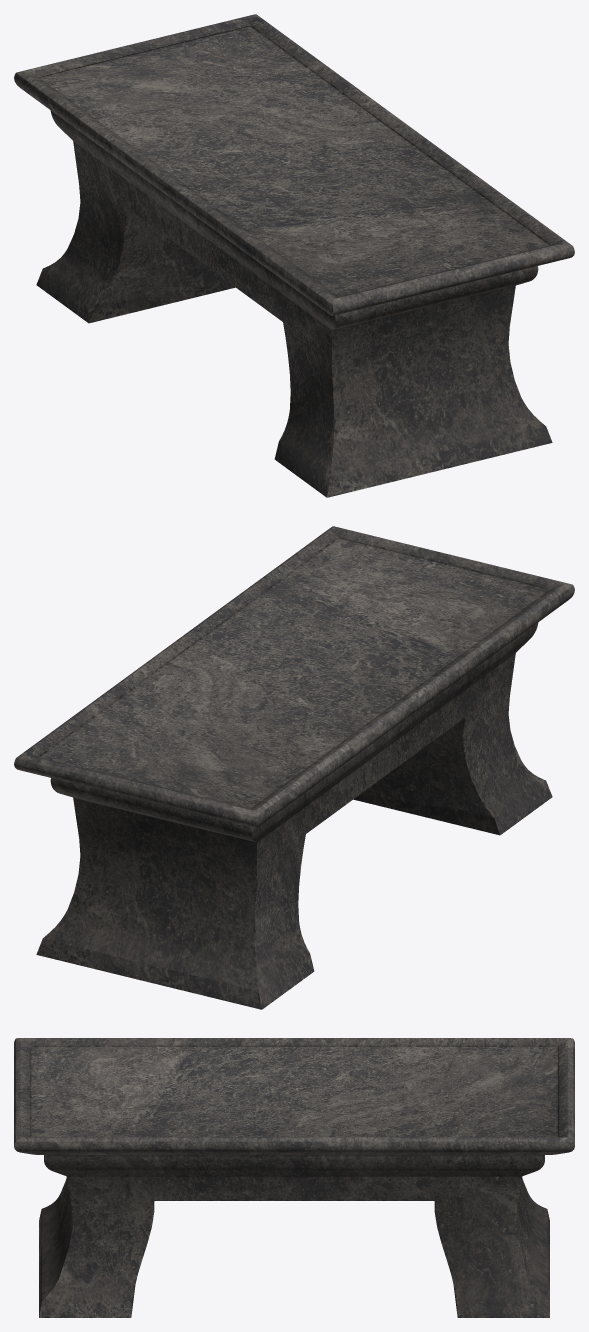
The picture shows the model from 3 angles, top to bottom: view 1: azimuth 30°, elevation 25°; view 2: azimuth 150°, elevation 25°; view 3: azimuth 270°, elevation 25°; orthographic projection. The views are drawn at different scales.
Parts seen in each view (by area): view 1: StoneTab_0; view 2: StoneTab_0; view 3: StoneTab_0.
Part boxes in pixels (x1,y1,x2,y2): StoneTab_0: [14, 14, 574, 497]; StoneTab_0: [14, 526, 574, 1009]; StoneTab_0: [14, 1038, 574, 1317].
Size of the model in its own units: 1.75 by 1.43 by 3.99.
Materials: 1 (1 with a texture image).
